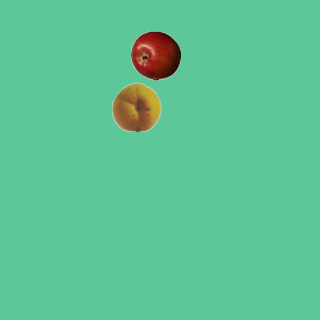Apple Braeburn: (130, 30, 180, 80)
Peach 2: (111, 81, 161, 131)
